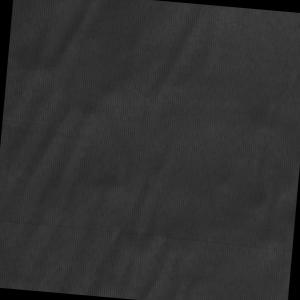Wrinkle: (1, 1, 215, 300)
